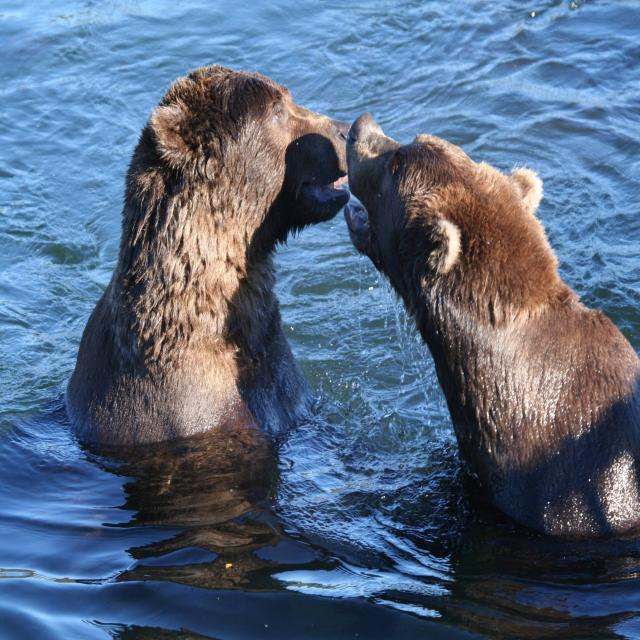bear face: (346, 114, 640, 517), (77, 63, 350, 431)
